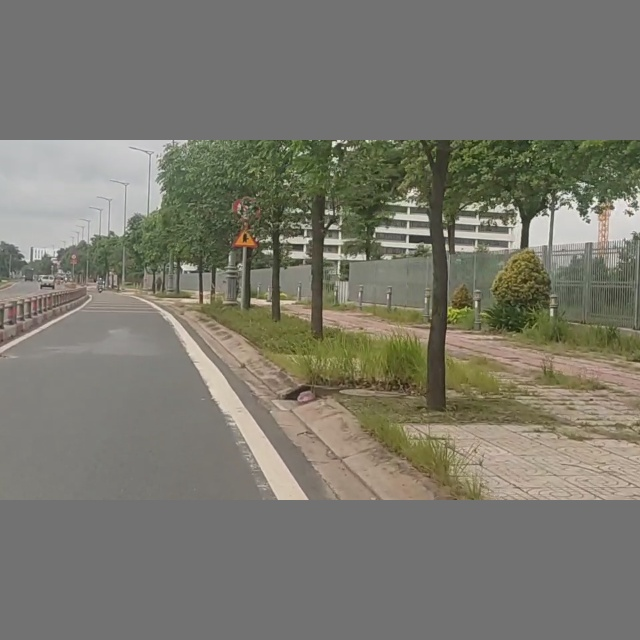W.207: (230, 227, 259, 248)
